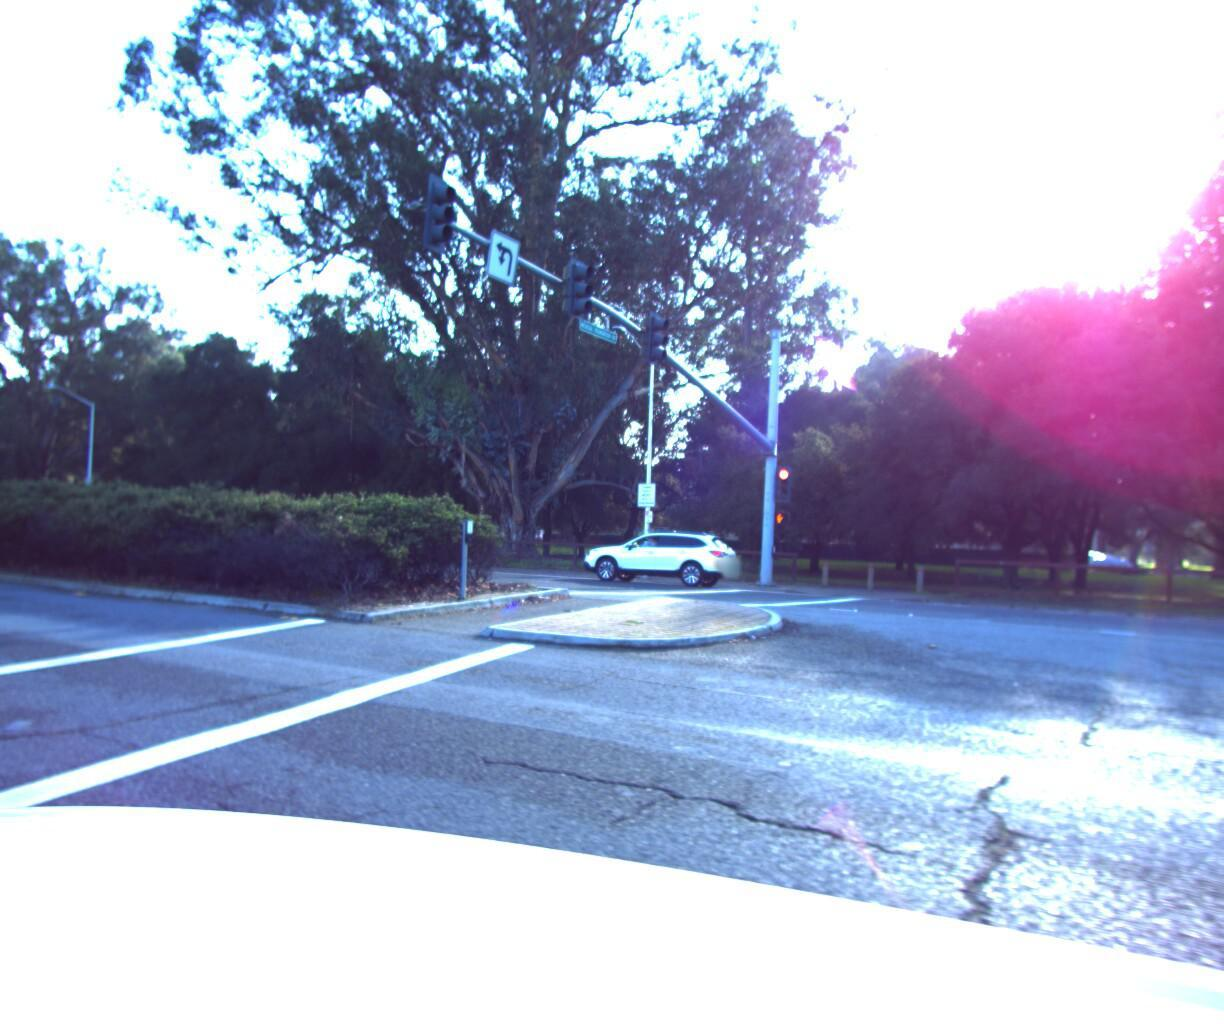car: (570, 519, 744, 585)
